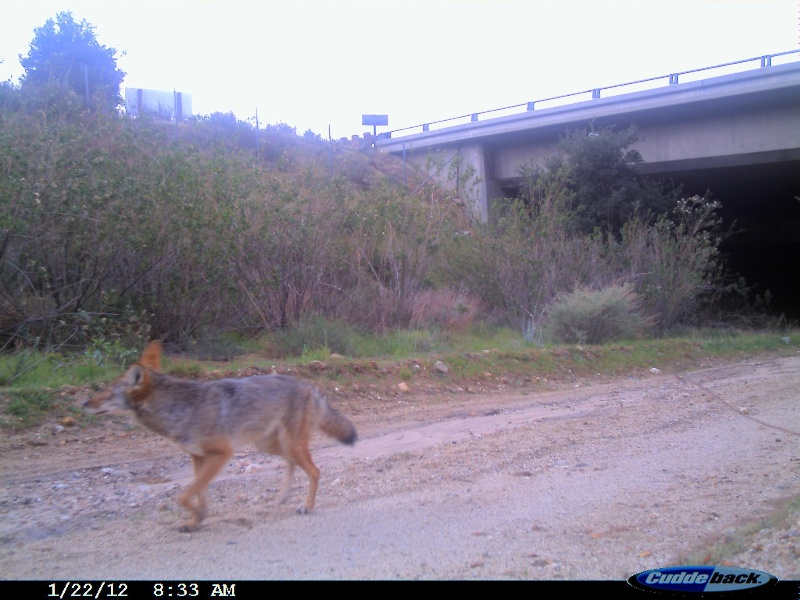coyote: (75, 338, 362, 537)
